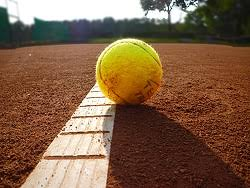tennis_ball: (94, 37, 164, 107)
